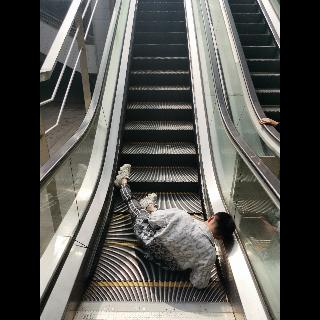anomaly: (113, 162, 235, 290)
